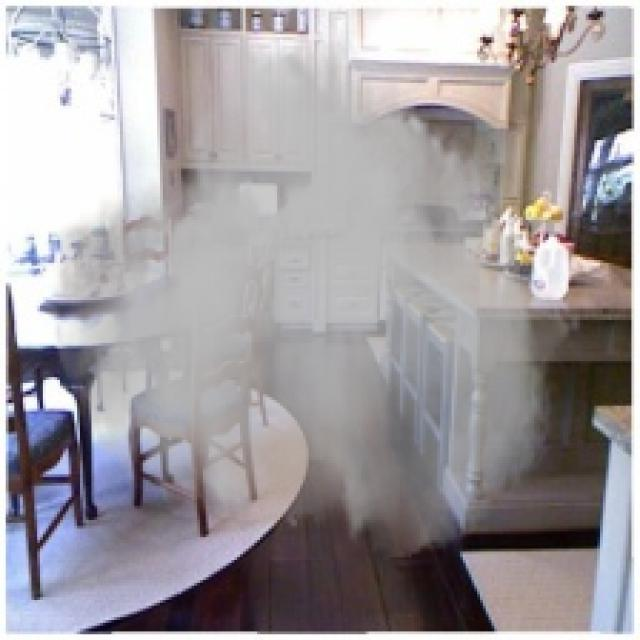smoke: (48, 11, 583, 563)
